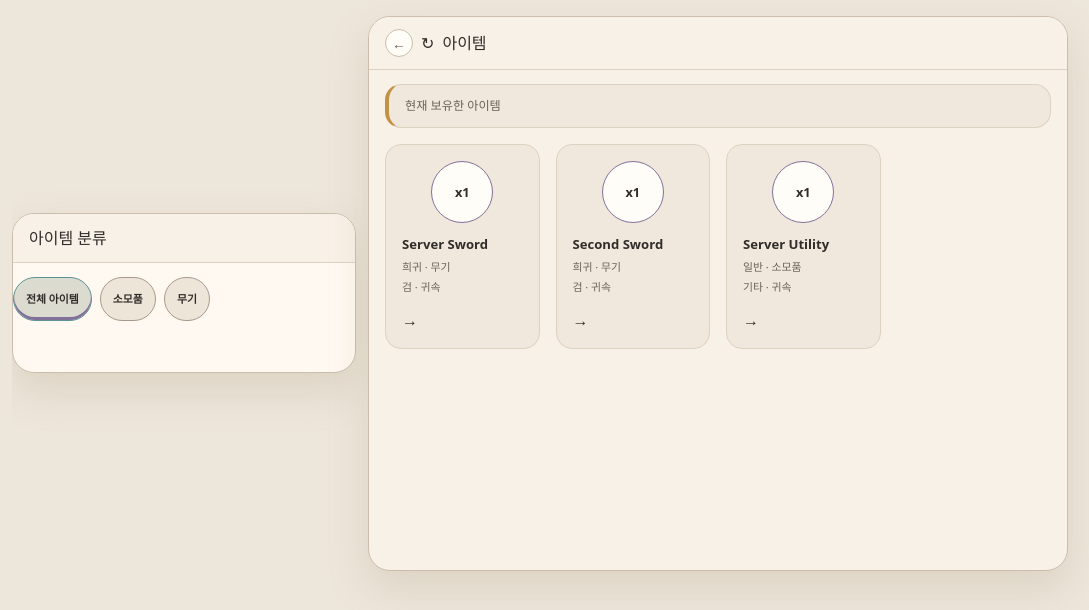
Scenario: Inventory Items와 Inbox surface를 사용할 때 › Items를 조회하고 itemInstanceId로 선택하면 › real category에서 filter를 만들고 즉시 적용하며 제외된 detail을 닫는다
Expected: the button "소모품" is shown, [100,277,156,321]
Expected: the button "무기" is shown, [164,277,210,321]
Click the button "x1 Server Sword 희귀 · 무기 검 · 귀속 →": {"x": 462, "y": 246} [385,144,540,348]
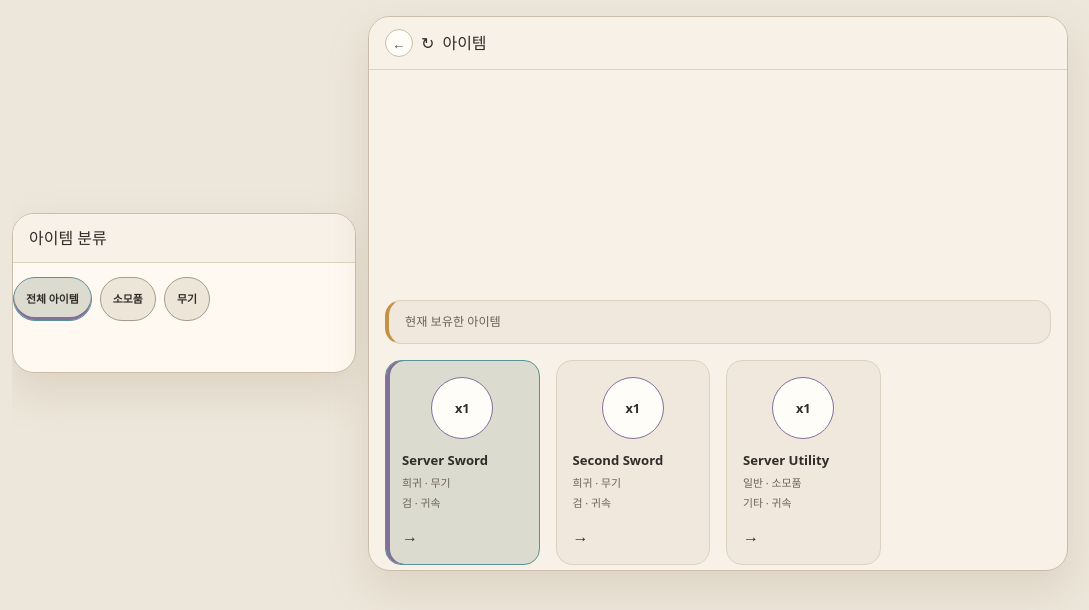
Click the button "소모품": {"x": 128, "y": 299} [100,277,156,321]
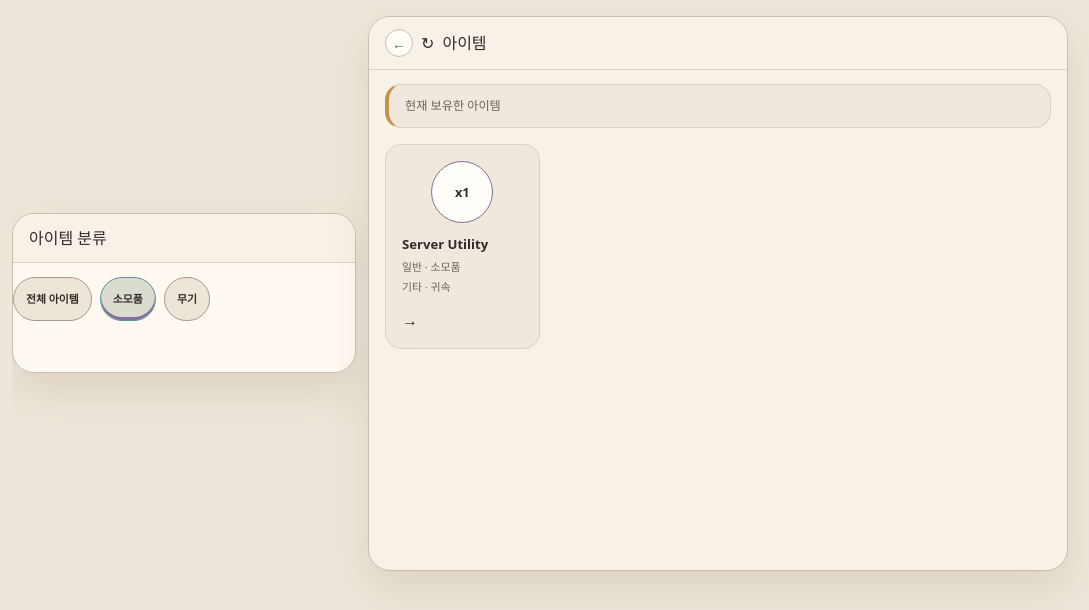
Now the number of buttons with test id "inventory-entry" is 1, box [385,144,540,348]
